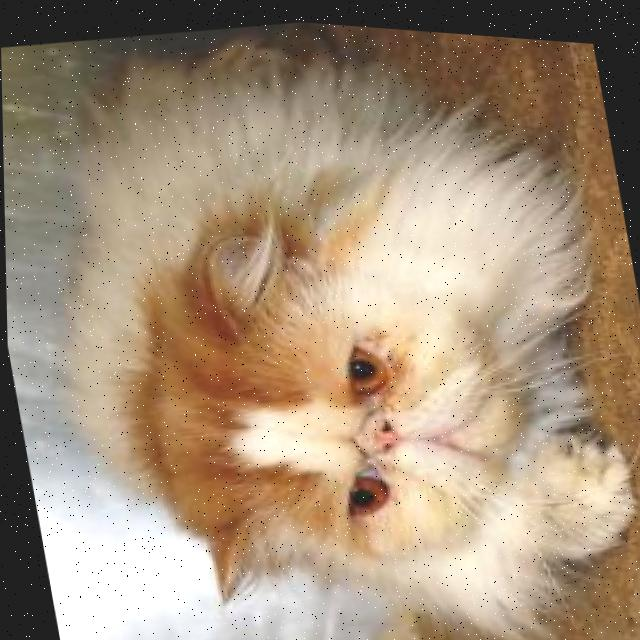Persian: (5, 0, 640, 640)
